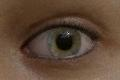eye: (47, 26, 81, 58)
